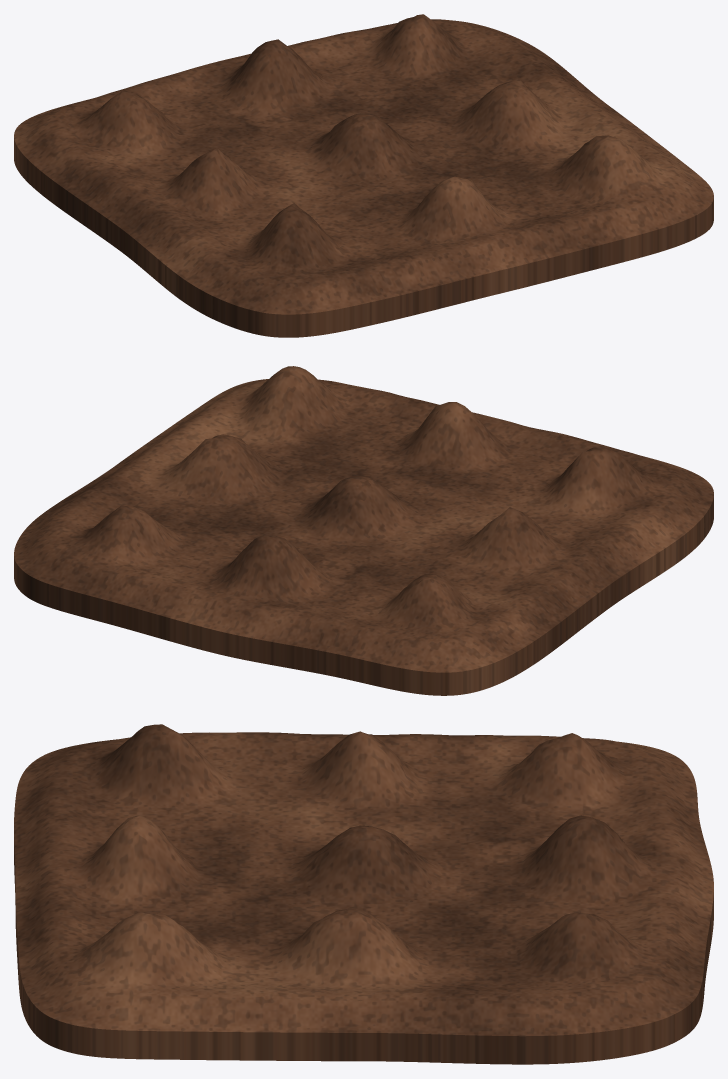
File: farm_plot_mounded.glb
3 renders of one model, top to bottom at view 1: azimuth 30°, elevation 25°; view 2: azimuth 150°, elevation 25°; view 3: azimuth 270°, elevation 25°, orthographic. The views are drawn at different scales.
Visible parts, largest first — view 1: Mounded_Soil_Mesh; view 2: Mounded_Soil_Mesh; view 3: Mounded_Soil_Mesh.
Boxes of the visible parts, x1,y1,x2,y2 form: Mounded_Soil_Mesh: (14, 14, 713, 337); Mounded_Soil_Mesh: (14, 366, 713, 695); Mounded_Soil_Mesh: (14, 724, 713, 1064).
Size of the model in its own units: 2 by 0.301 by 1.97.
1 material, 1 textured.
